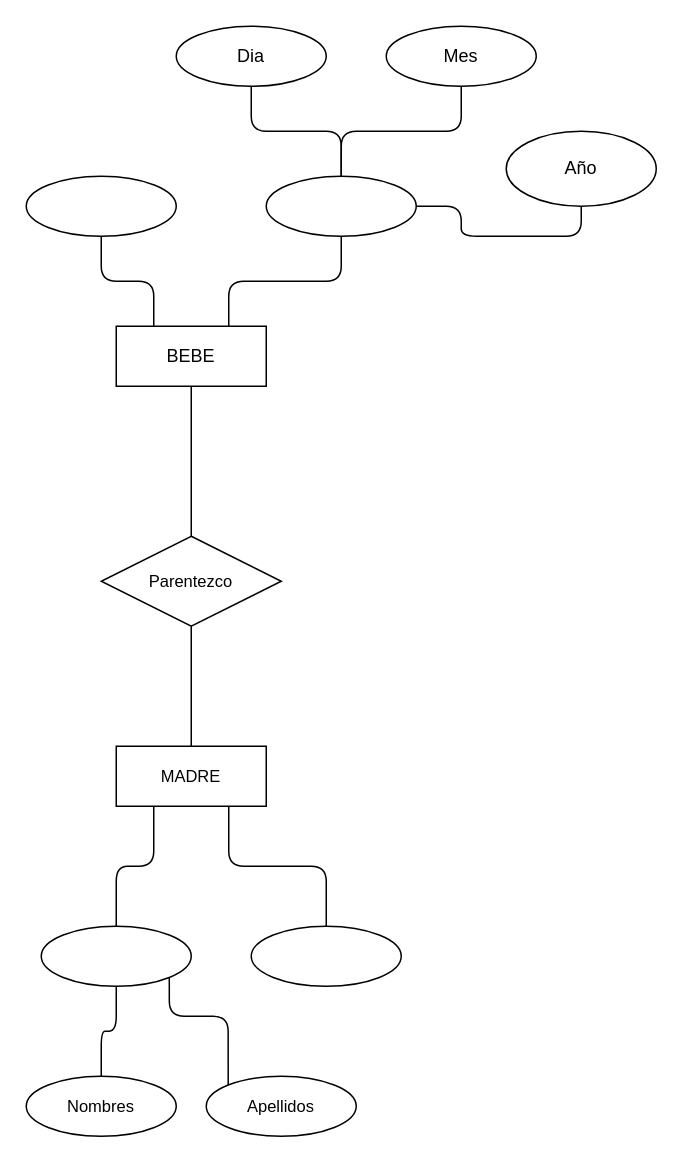
The diagram is 683 pixels wide and 1163 high, and some of its shapes have lost their labels. The shapes that lost their labels are listed below. From the top down, each one's centre as x and y in pixels, then its label:
At point 100,205: "Hora".
At point 340,205: "FechaNacimiento".
At point 115,955: "Nombre".
At point 325,955: "DNI".
